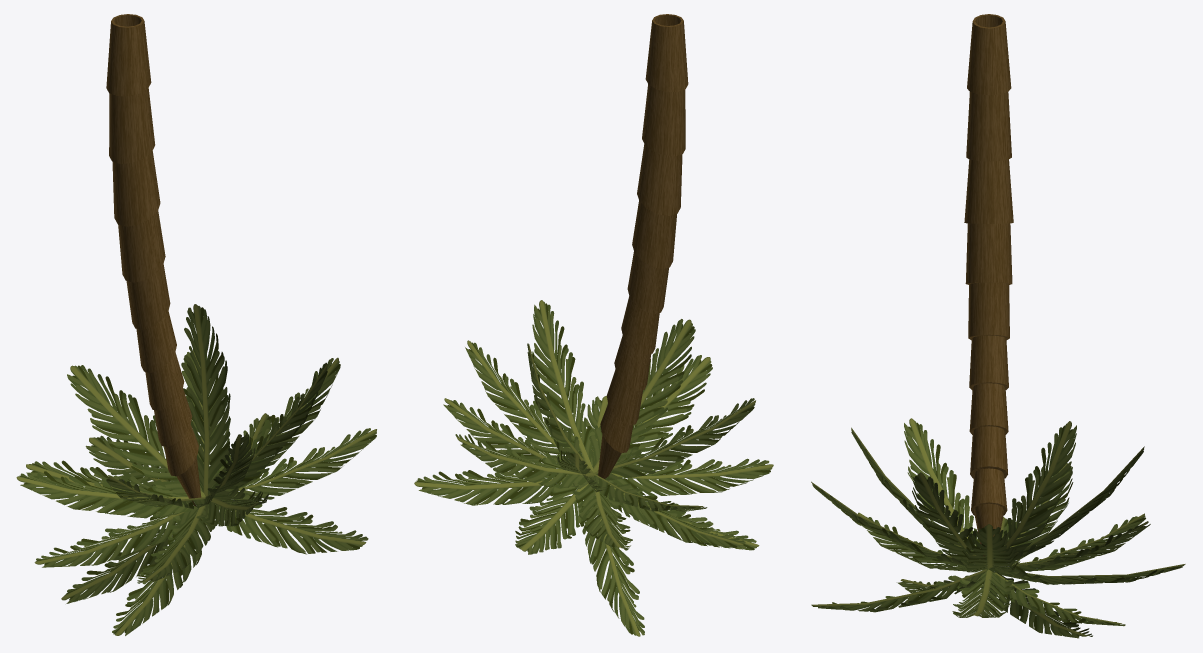
File: palm.fbx
The picture shows the model from 3 angles, left to right: view 1: azimuth 30°, elevation 25°; view 2: azimuth 150°, elevation 25°; view 3: azimuth 270°, elevation 25°; orthographic projection. The views are drawn at different scales.
Parts seen in each view (by area): view 1: Palmier; view 2: Palmier; view 3: Palmier.
Boxes of the visible parts, x1,y1,x2,y2 form: Palmier: [16, 14, 376, 635]; Palmier: [414, 14, 773, 636]; Palmier: [811, 14, 1185, 638].
Size of the model in its own units: 114 by 201 by 111.
